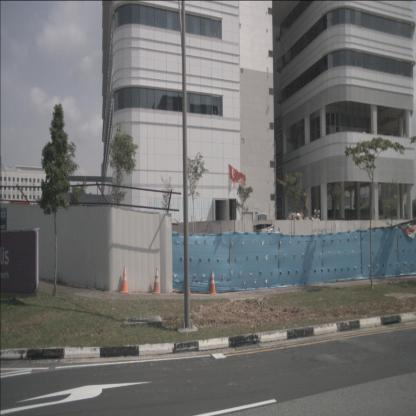cone: (120, 265, 129, 293), (152, 267, 161, 294), (209, 270, 217, 296)
